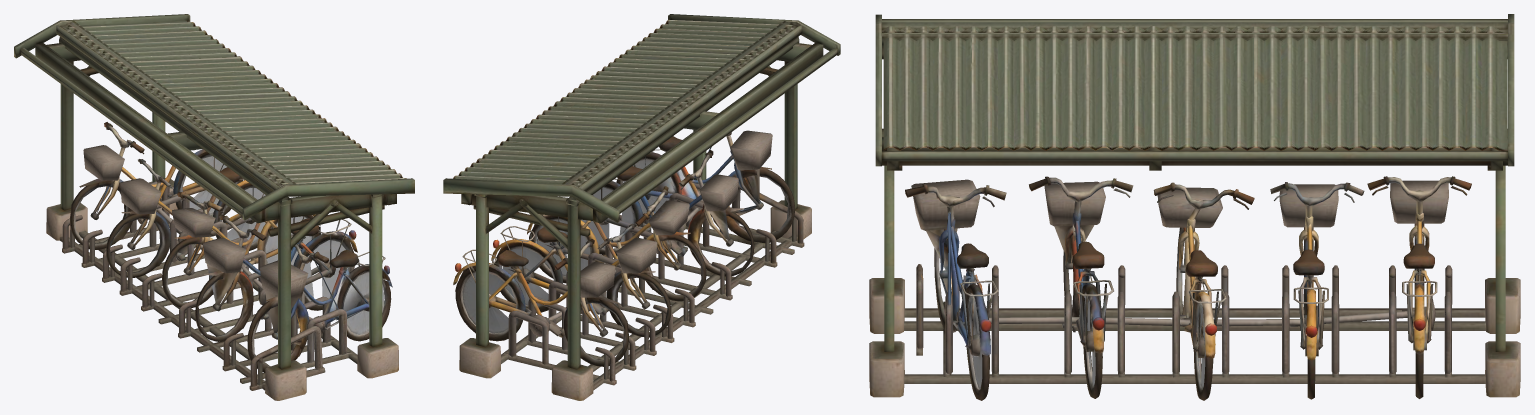
File: bicycle_shelter.glb
The picture shows the model from 3 angles, left to right: view 1: azimuth 30°, elevation 25°; view 2: azimuth 150°, elevation 25°; view 3: azimuth 270°, elevation 25°; orthographic projection. The views are drawn at different scales.
Visible parts, largest first — view 1: tripo_node_e8e21383-fd9e-49cc-88cc-c7652059194e; view 2: tripo_node_e8e21383-fd9e-49cc-88cc-c7652059194e; view 3: tripo_node_e8e21383-fd9e-49cc-88cc-c7652059194e.
Boxes of the visible parts, box(x1,y1,x2,y2) form: tripo_node_e8e21383-fd9e-49cc-88cc-c7652059194e: box(14, 14, 414, 400); tripo_node_e8e21383-fd9e-49cc-88cc-c7652059194e: box(443, 14, 840, 400); tripo_node_e8e21383-fd9e-49cc-88cc-c7652059194e: box(869, 14, 1520, 400).
Bounding box in the file's own units: 0.4946 × 0.5015 × 0.9995.
Materials: 1 (1 with a texture image).
